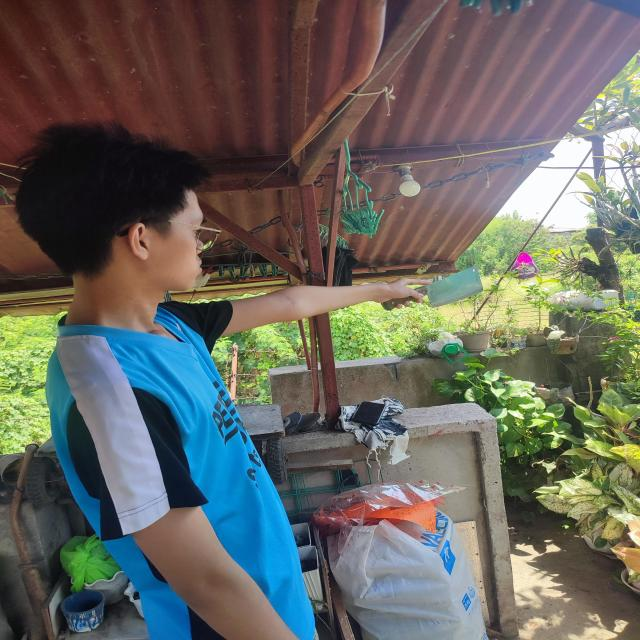knife: (399, 266, 484, 308)
